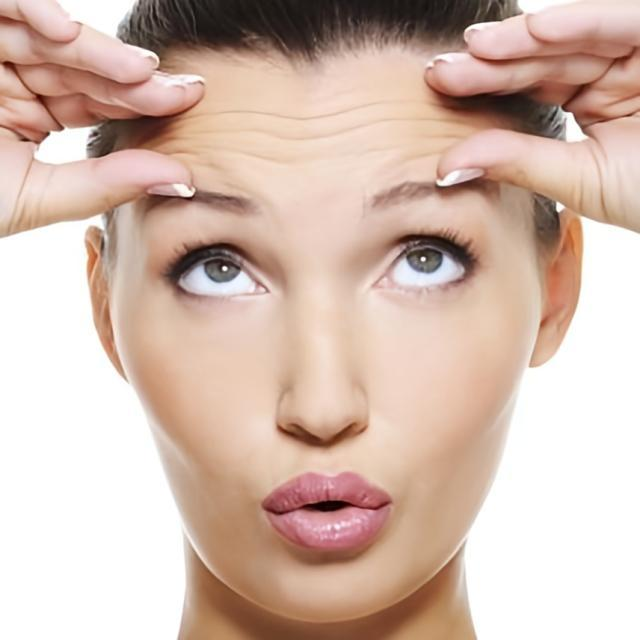surprise: (104, 0, 544, 625)
